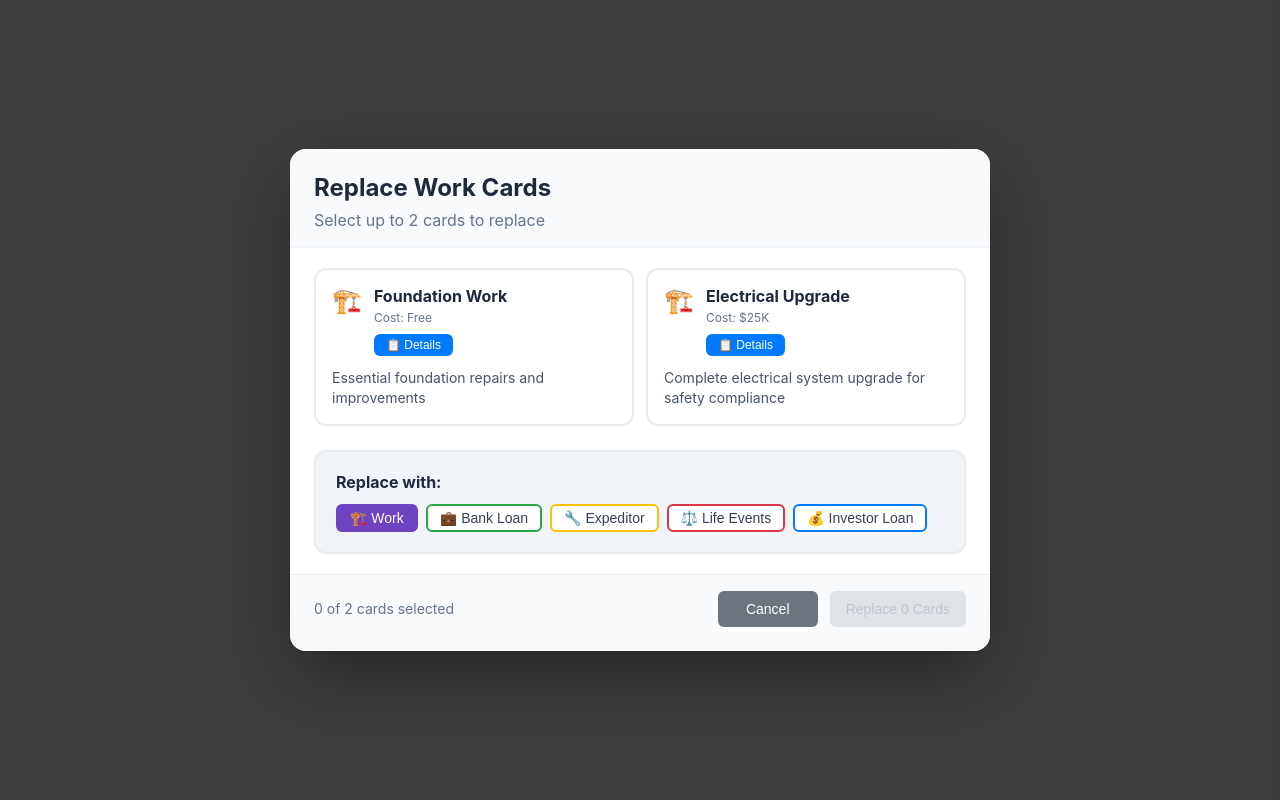
Test: CardReplacementModal › should handle card selection and deselection
This screenshot has width=1280, height=800.
Expected: the text "0 of 2 cards selected" is shown, 314,600 -> 454,617
# Select first card
What coordinates should you click on to do the following:
click the text "Foundation Work"
I would click on:
 (441, 296)
Its box is 374,286 -> 507,356.
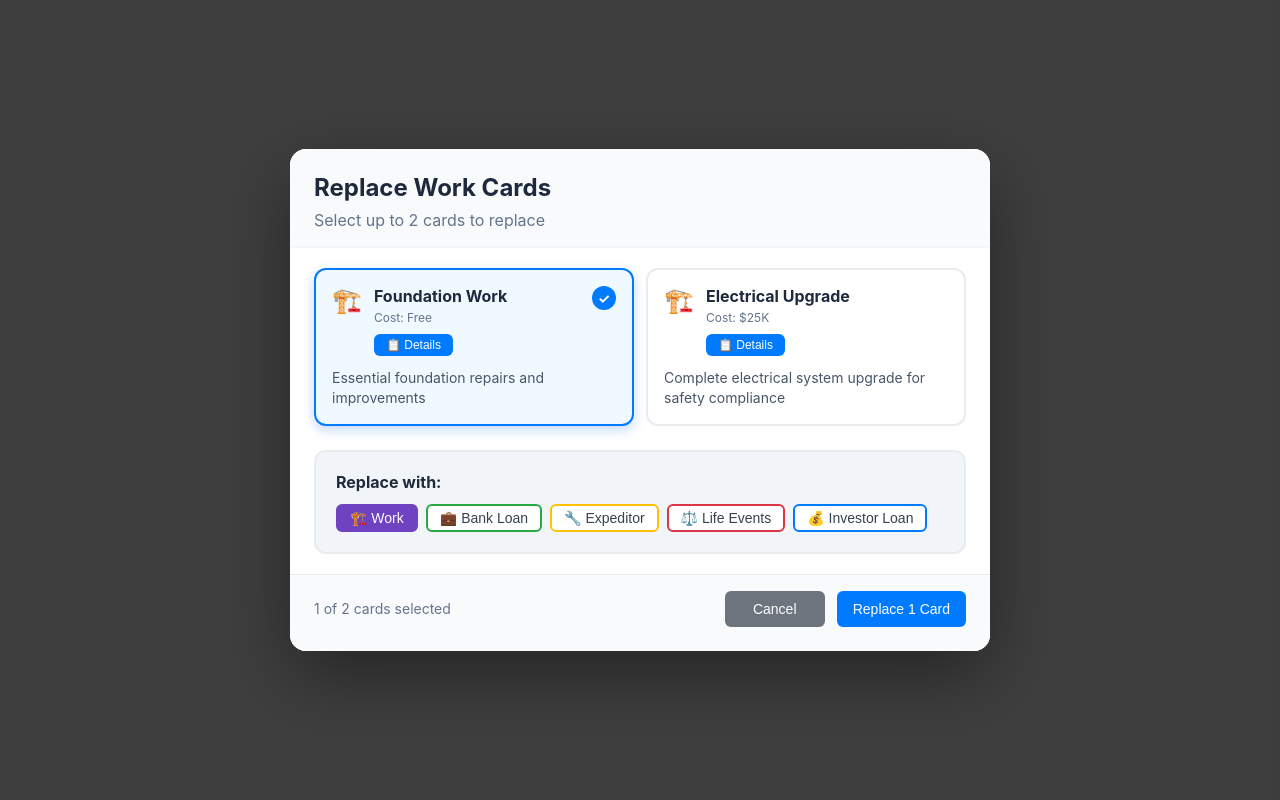
Expected: the text "1 of 2 cards selected" is shown, 314,600 -> 451,617
# Select second card
What coordinates should you click on to do the following:
click the text "Electrical Upgrade"
I would click on:
 (778, 296)
Its box is 706,286 -> 850,356.
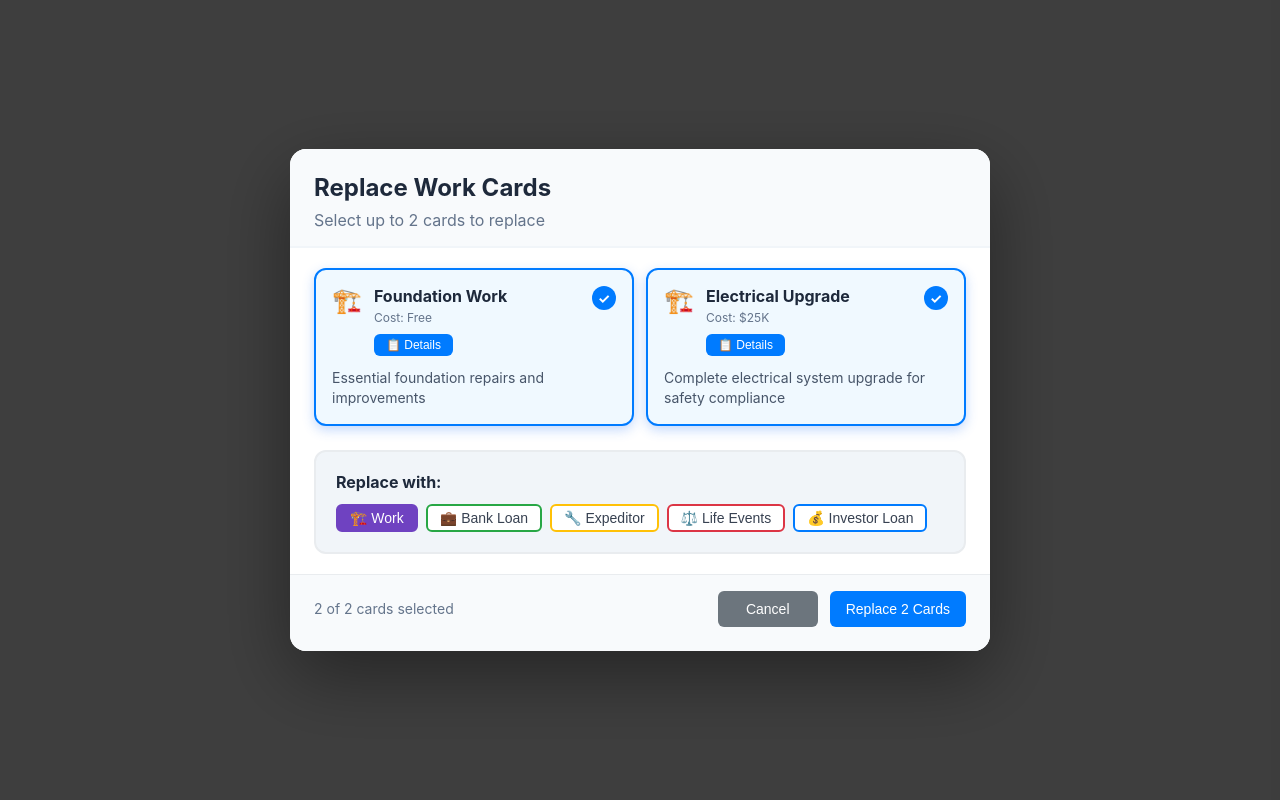
Expected: the text "2 of 2 cards selected" is shown, 314,600 -> 454,617
# Deselect first card
What coordinates should you click on to do the following:
click the text "Foundation Work"
I would click on:
 (441, 296)
Its box is 374,286 -> 507,356.
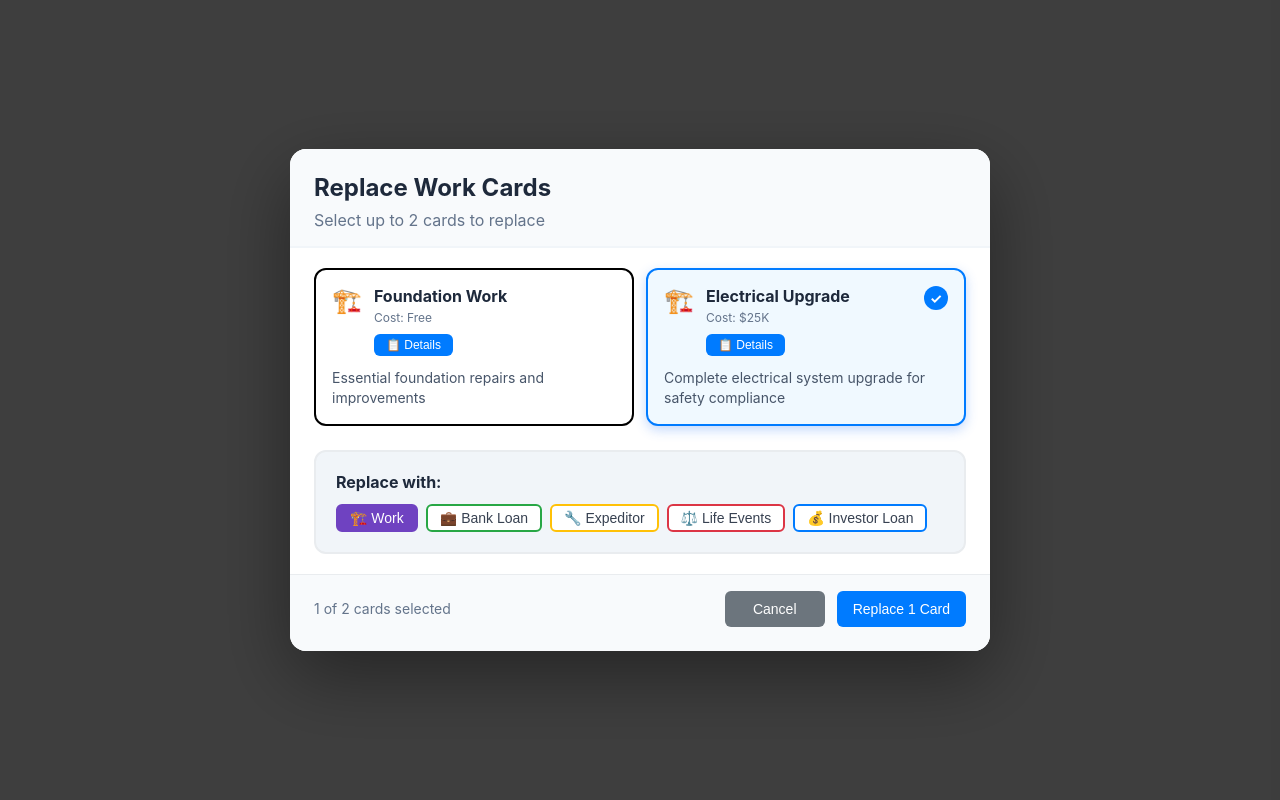
Expected: the text "1 of 2 cards selected" is shown, 314,600 -> 451,617
